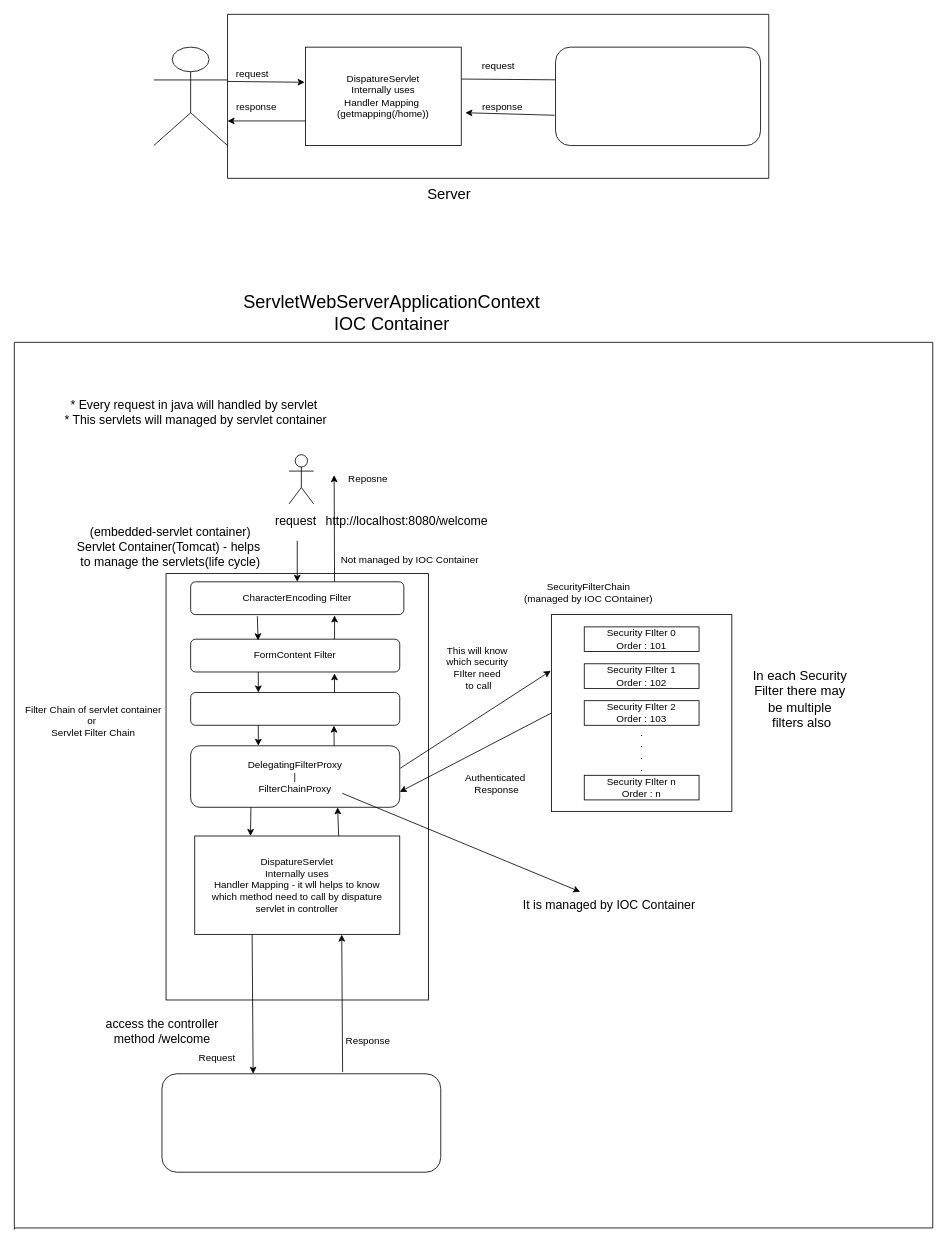
This 948x1245 diagram has some shape labels left out. The shapes that lost their labels are listed below. From the top down, each one's centre as x and y in pixels, then its label:
the point at 190,96: Client
the point at 658,96: /home Controller return"home"
the point at 295,708: RequestCaching Filter
the point at 301,1122: /welcome Controller return "welcome"
